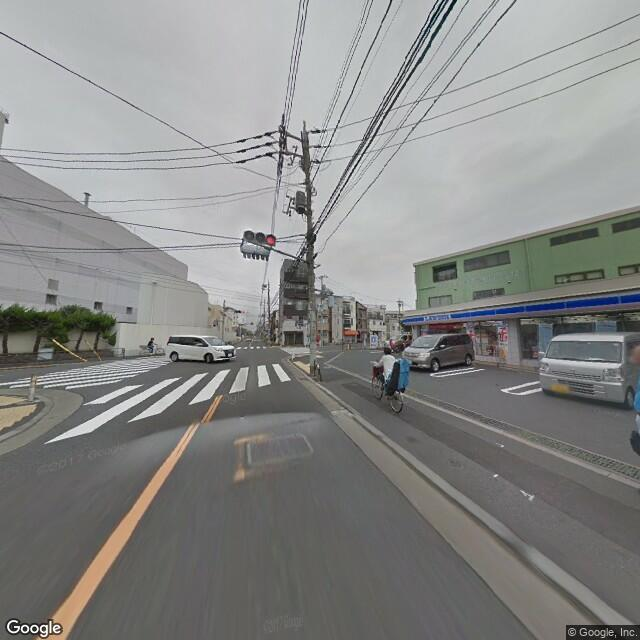lawson: (400, 283, 639, 330)
